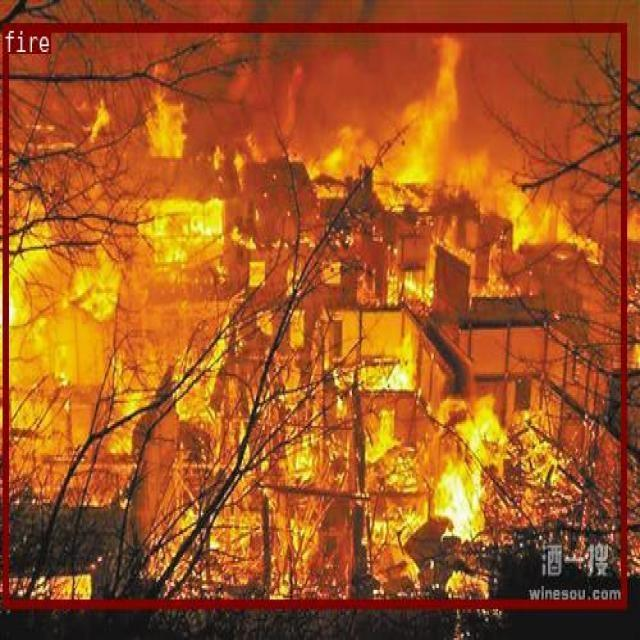fire: (2, 22, 626, 607)
